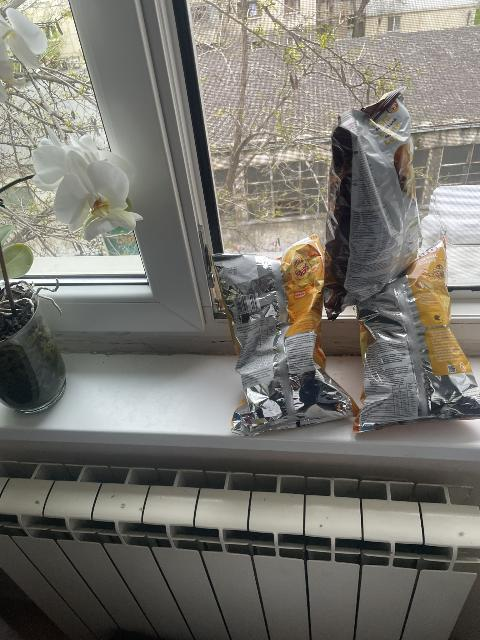Chio Cascaval 125g: (350, 247, 479, 427)
Chio Hula Hoops Cheese 70g: (221, 245, 350, 433)
Lays Beef Grilled Ribs 125g: (328, 91, 422, 300)
